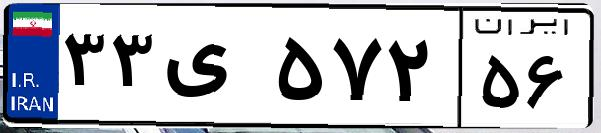2: (385, 28, 445, 110)
3: (57, 26, 110, 100), (110, 28, 158, 98)
5: (270, 28, 330, 110), (475, 38, 525, 113)
6: (525, 38, 570, 115)
7: (330, 28, 385, 110)
ی: (158, 20, 270, 120)
